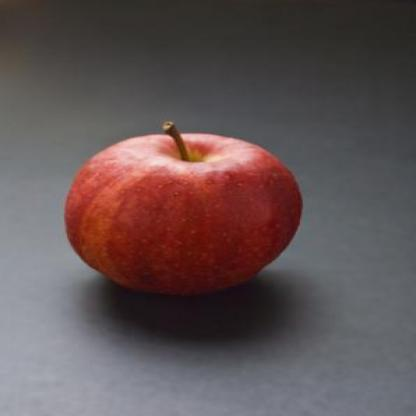apple: (59, 124, 304, 298)
